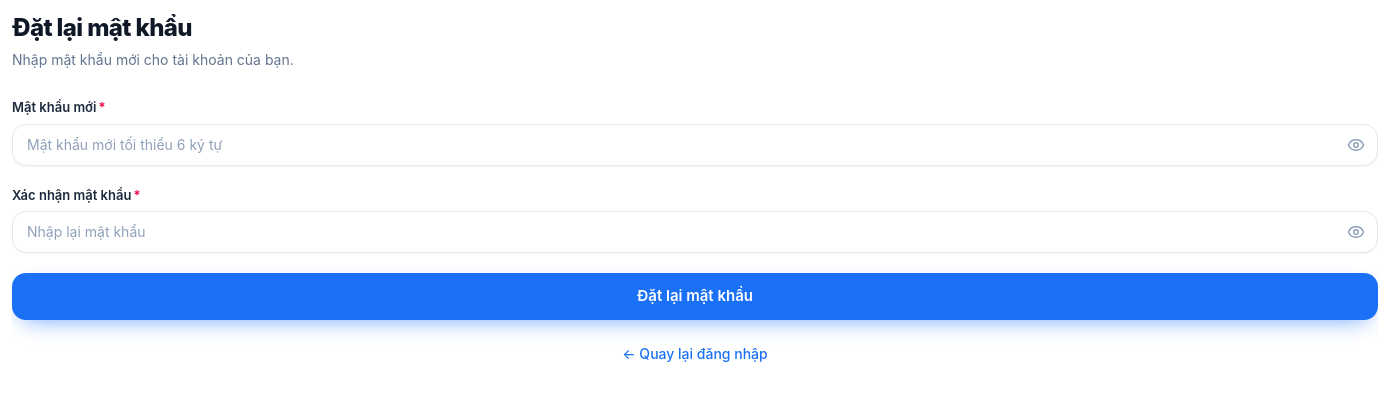
Scenario: ResetPassword › mật khẩu quá ngắn → lỗi, không gọi API
Type "123" into the password field with placeholder "Mật khẩu mới tối thiểu 6 ký tự" at (695, 144), box [12,124,1378,166]
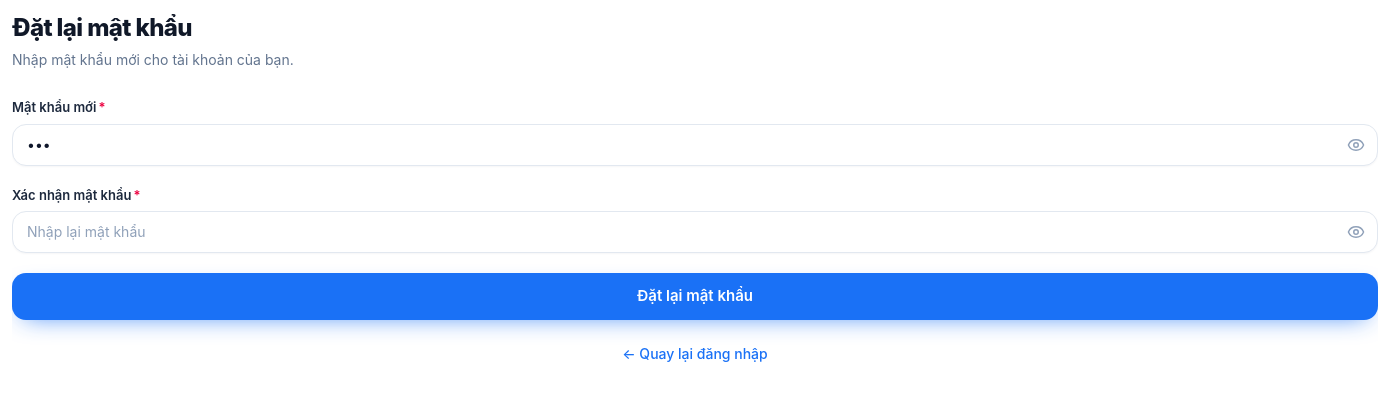
Type "123" into the password field with placeholder "Nhập lại mật khẩu" at (695, 232), box [12,211,1378,253]
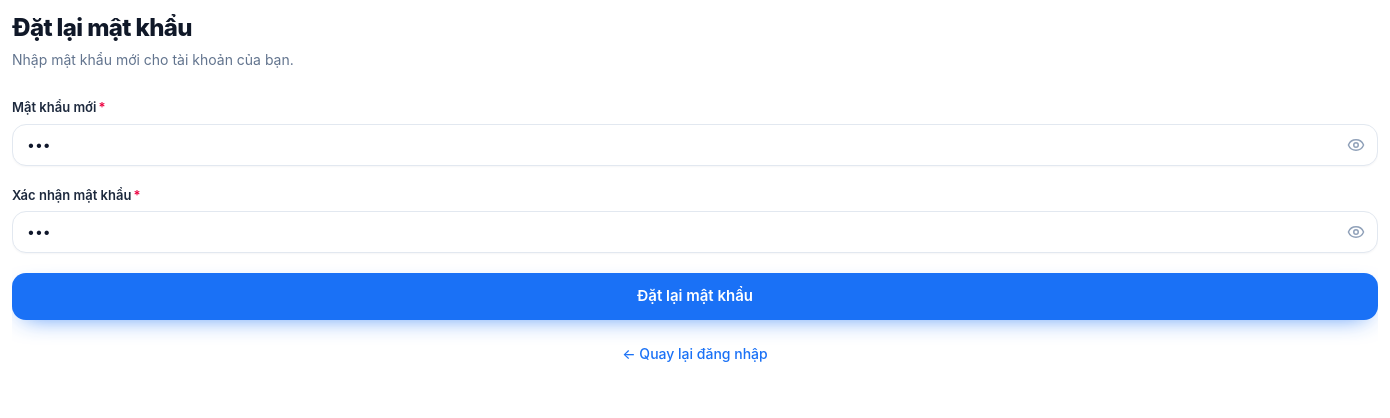
Click the button "Đặt lại mật khẩu" at (695, 296), box [12,273,1378,320]
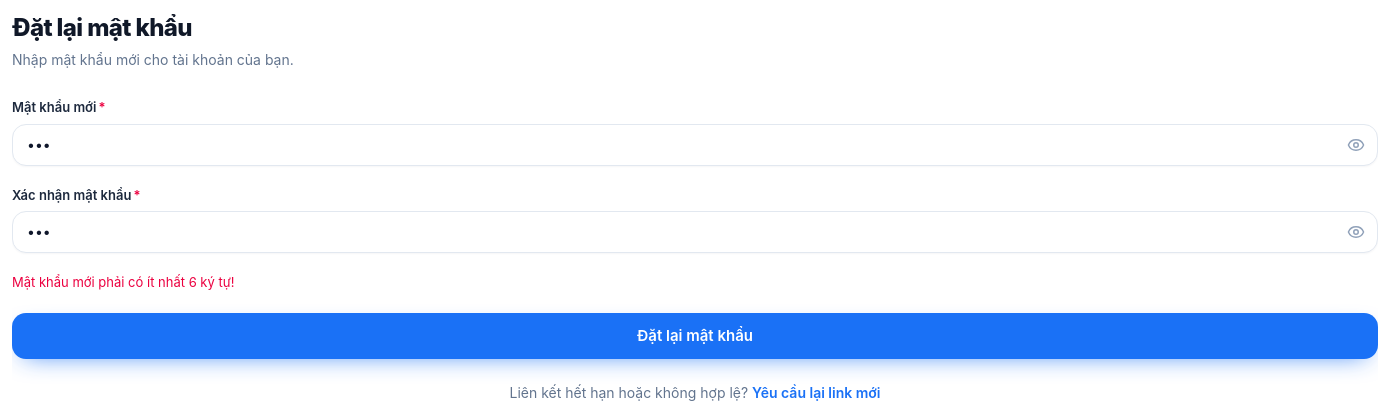
Check: the text "Mật khẩu mới phải có ít nhất 6 ký tự!" is shown, box [12,274,234,290]
